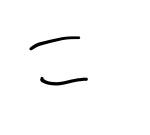eqv: (31, 36, 88, 86)
